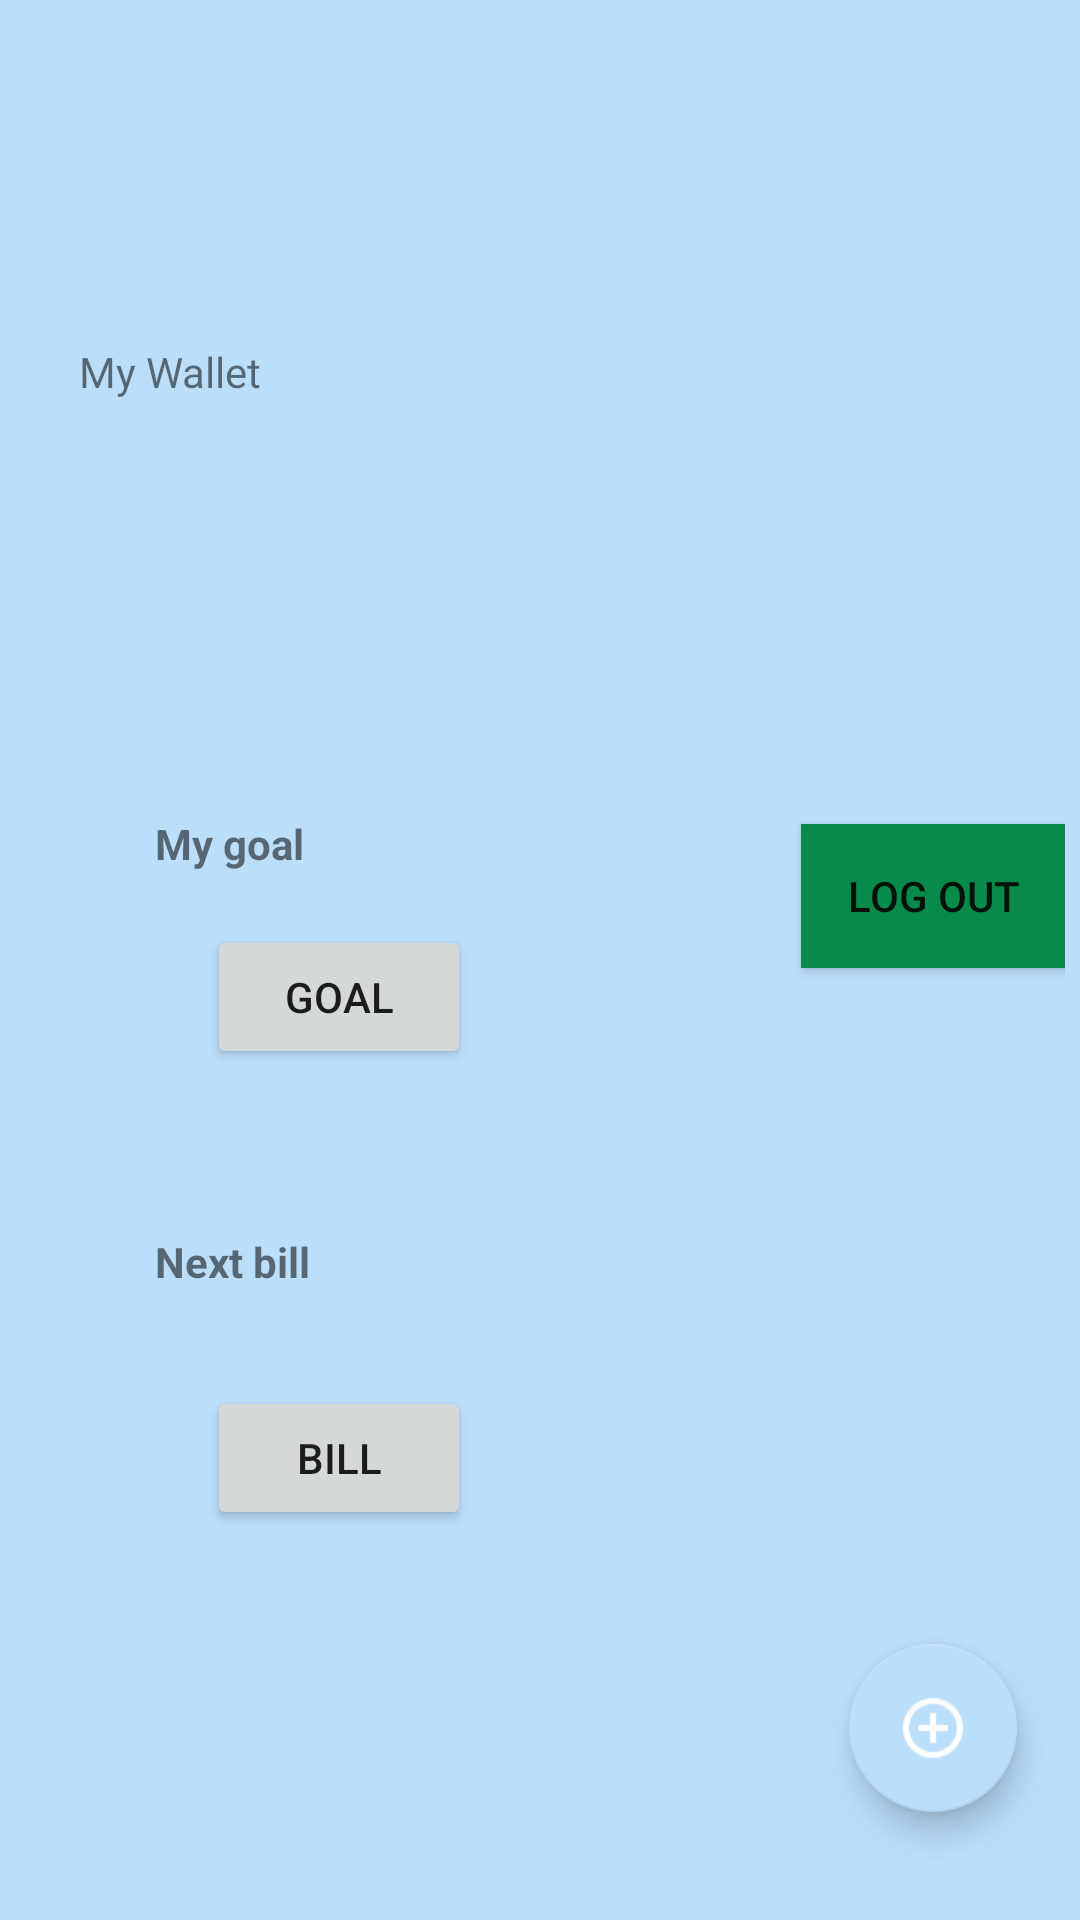

Where to tap for icons on this 1080×1920 app screen, as (x,y):
add circle: (908,1729)
